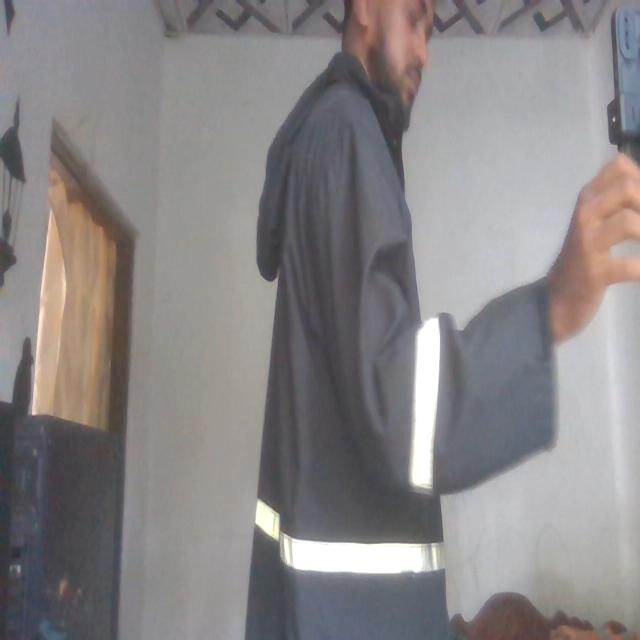Jacket_Wearer: (258, 74, 560, 640)
Person: (249, 0, 640, 640)
